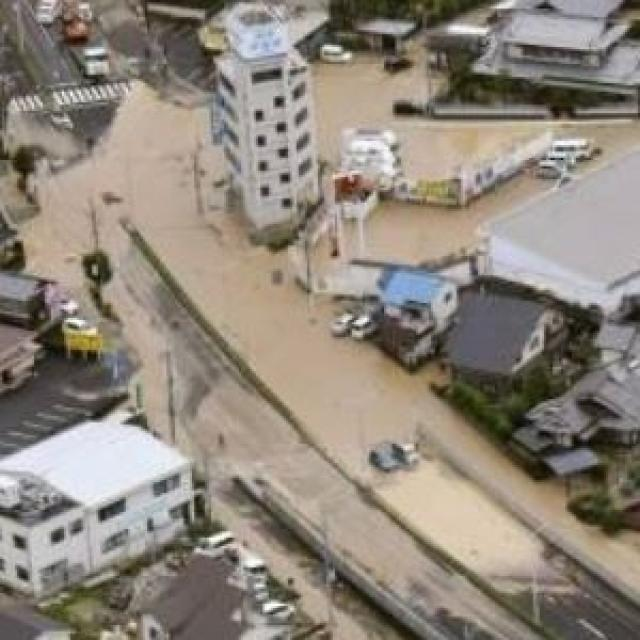flooded_areas: (19, 9, 617, 576)
